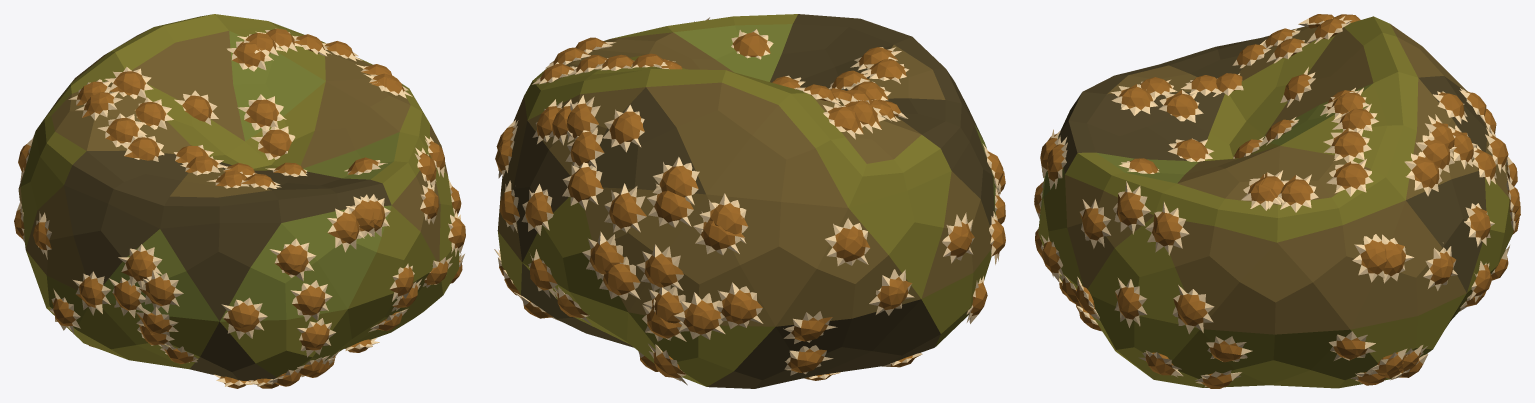
File: easter-egg-cactusv2.fbx
3 views of the same model, side by side, from view 1: azimuth 30°, elevation 25°; view 2: azimuth 150°, elevation 25°; view 3: azimuth 270°, elevation 25° (orthographic). The views are drawn at different scales.
Parts seen in each view (by area): view 1: Icosphere, Icosphere|Icosphere.001|Dupli|39, Icosphere|Icosphere.001|Dupli|58, Icosphere|Icosphere.001|Dupli|40, Icosphere|Icosphere.001|Dupli|57, Icosphere|Icosphere.001|Dupli|38, Icosphere|Icosphere.001|Dupli|91, Icosphere|Icosphere.001|Dupli|42, Icosphere|Icosphere.001|Dupli|37, Icosphere|Icosphere.001|Dupli|98, Icosphere|Icosphere.001|Dupli|96, Icosphere|Icosphere.001|Dupli|104 (+30 smaller); view 2: Icosphere, Icosphere|Icosphere.001|Dupli|31, Icosphere|Icosphere.001|Dupli|34, Icosphere|Icosphere.001|Dupli|30, Icosphere|Icosphere.001|Dupli|53, Icosphere|Icosphere.001|Dupli|27, Icosphere|Icosphere.001|Dupli|15, Icosphere|Icosphere.001|Dupli|16, Icosphere|Icosphere.001|Dupli|17, Icosphere|Icosphere.001|Dupli|29, Icosphere|Icosphere.001|Dupli|35, Icosphere|Icosphere.001|Dupli|28 (+29 smaller); view 3: Icosphere, Icosphere|Icosphere.001|Dupli|48, Icosphere|Icosphere.001|Dupli|46, Icosphere|Icosphere.001|Dupli|45, Icosphere|Icosphere.001|Dupli|94, Icosphere|Icosphere.001|Dupli|22, Icosphere|Icosphere.001|Dupli|88, Icosphere|Icosphere.001|Dupli|47, Icosphere|Icosphere.001|Dupli|21, Icosphere|Icosphere.001|Dupli|89, Icosphere|Icosphere.001|Dupli|44, Icosphere|Icosphere.001|Dupli|23 (+33 smaller).
Part boxes in pixels (box(x1,y1,x2,y2)): Icosphere: box(18, 14, 459, 380); Icosphere|Icosphere.001|Dupli|39: box(221, 297, 267, 339); Icosphere|Icosphere.001|Dupli|58: box(118, 244, 162, 290); Icosphere|Icosphere.001|Dupli|40: box(269, 238, 316, 281); Icosphere|Icosphere.001|Dupli|57: box(139, 270, 183, 312); Icosphere|Icosphere.001|Dupli|38: box(290, 280, 332, 321); Icosphere|Icosphere.001|Dupli|91: box(237, 94, 286, 130); Icosphere|Icosphere.001|Dupli|42: box(327, 206, 364, 252); Icosphere|Icosphere.001|Dupli|37: box(73, 271, 110, 315); Icosphere|Icosphere.001|Dupli|98: box(97, 113, 146, 148); Icosphere|Icosphere.001|Dupli|96: box(104, 67, 153, 99); Icosphere|Icosphere.001|Dupli|104: box(251, 126, 295, 159); Icosphere: box(497, 14, 996, 388); Icosphere|Icosphere.001|Dupli|31: box(674, 292, 725, 339); Icosphere|Icosphere.001|Dupli|34: box(716, 282, 763, 329); Icosphere|Icosphere.001|Dupli|30: box(636, 244, 683, 291); Icosphere|Icosphere.001|Dupli|53: box(825, 218, 870, 265); Icosphere|Icosphere.001|Dupli|27: box(604, 183, 646, 232); Icosphere|Icosphere.001|Dupli|15: box(562, 162, 603, 210); Icosphere|Icosphere.001|Dupli|16: box(652, 157, 699, 205); Icosphere|Icosphere.001|Dupli|17: box(603, 104, 644, 152); Icosphere|Icosphere.001|Dupli|29: box(647, 183, 693, 227); Icosphere|Icosphere.001|Dupli|35: box(699, 193, 748, 243); Icosphere|Icosphere.001|Dupli|28: box(582, 231, 623, 279); Icosphere: box(1038, 16, 1513, 388); Icosphere|Icosphere.001|Dupli|48: box(1145, 201, 1189, 255); Icosphere|Icosphere.001|Dupli|46: box(1172, 285, 1214, 334); Icosphere|Icosphere.001|Dupli|45: box(1113, 181, 1150, 234); Icosphere|Icosphere.001|Dupli|94: box(1323, 128, 1371, 162); Icosphere|Icosphere.001|Dupli|22: box(1352, 234, 1386, 282); Icosphere|Icosphere.001|Dupli|88: box(1326, 159, 1373, 196); Icosphere|Icosphere.001|Dupli|47: box(1114, 278, 1146, 327); Icosphere|Icosphere.001|Dupli|21: box(1404, 151, 1442, 196); Icosphere|Icosphere.001|Dupli|89: box(1278, 174, 1318, 212); Icosphere|Icosphere.001|Dupli|44: box(1079, 199, 1111, 248); Icosphere|Icosphere.001|Dupli|23: box(1423, 242, 1457, 290).
Size of the model in its own units: 184 by 122 by 184.
